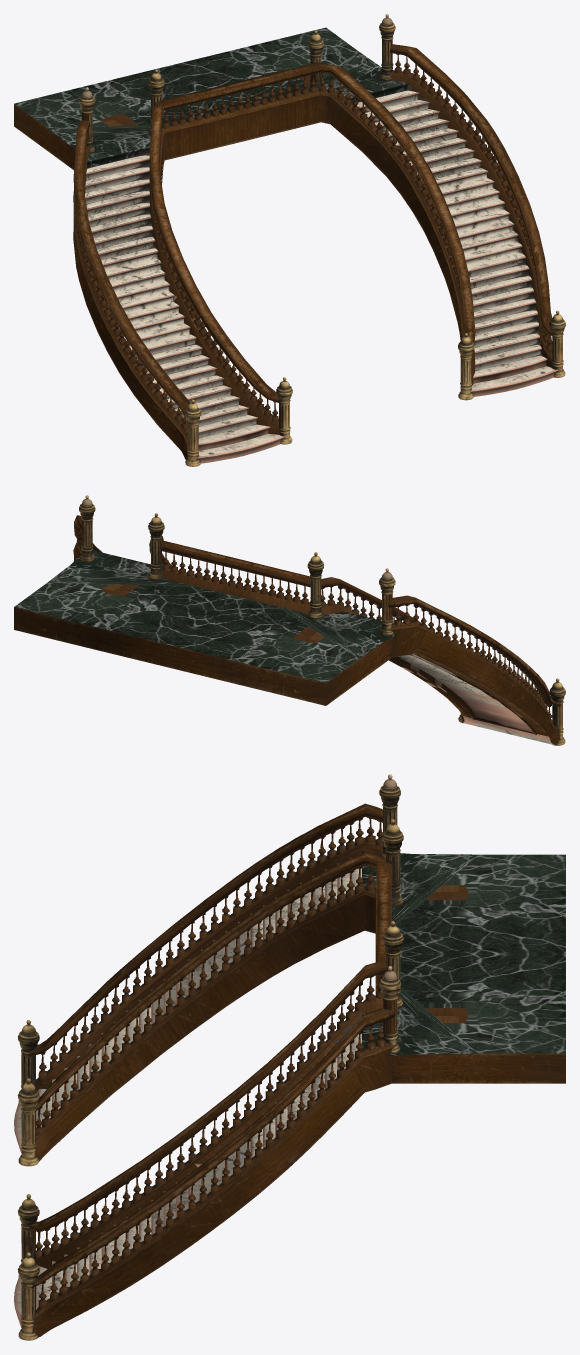
File: wooden-stairs.glb
3 renders of one model, top to bottom at view 1: azimuth 30°, elevation 25°; view 2: azimuth 150°, elevation 25°; view 3: azimuth 270°, elevation 25°, orthographic. The views are drawn at different scales.
Visible parts, largest first — view 1: 01; view 2: 01; view 3: 01.
Part boxes in pixels (<box>): 01: <box>14,14,565,466</box>; 01: <box>14,495,565,745</box>; 01: <box>14,774,565,1340</box>.
Size of the model in its own units: 4.38 by 2.65 by 3.79.
1 material, 1 textured.
